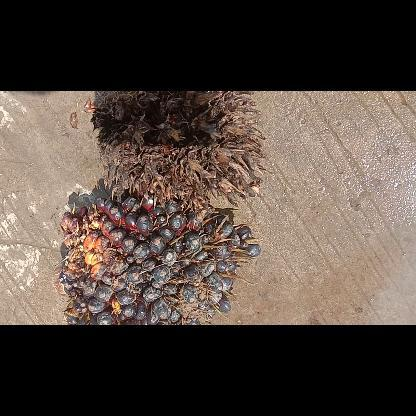Janjang kosong: (90, 90, 270, 212)
TBS mentah: (54, 190, 262, 322)
